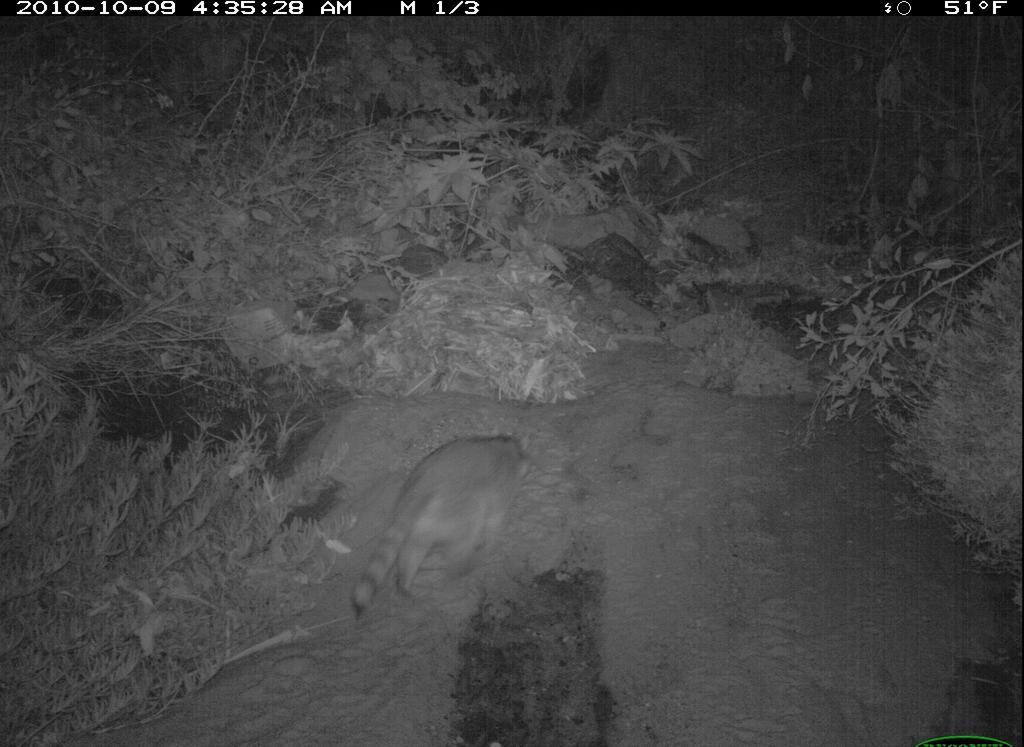opossum: (349, 427, 551, 614)
